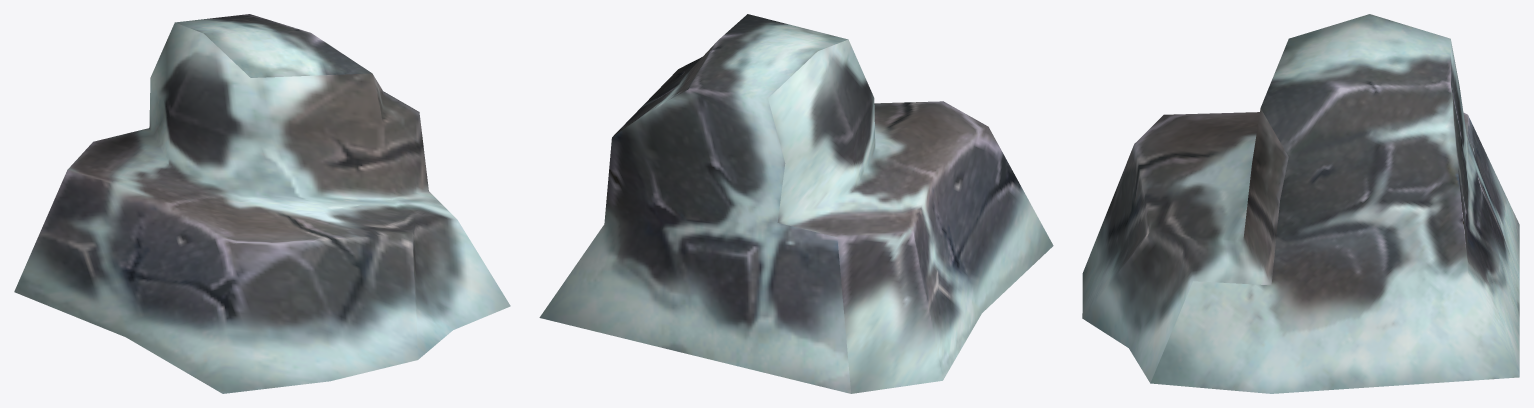
Rendered from xs_shanshi3.FBX.
3 renders of one model, left to right at view 1: azimuth 30°, elevation 25°; view 2: azimuth 150°, elevation 25°; view 3: azimuth 270°, elevation 25°, orthographic. The views are drawn at different scales.
Parts seen in each view (by area): view 1: Object07; view 2: Object07; view 3: Object07.
Boxes of the visible parts, x1,y1,x2,y2 form: Object07: (14,14,510,393); Object07: (539,14,1053,393); Object07: (1082,14,1519,393).
Size of the model in its own units: 115 by 71.9 by 108.
